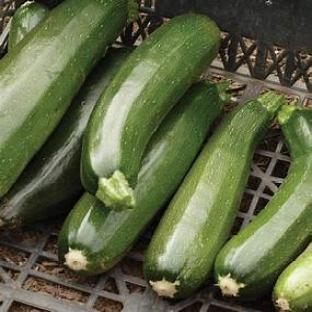Zucchini: (59, 83, 223, 275), (144, 93, 283, 298), (82, 15, 220, 210), (0, 49, 132, 226), (215, 106, 311, 299), (274, 245, 311, 311), (8, 2, 49, 49)
